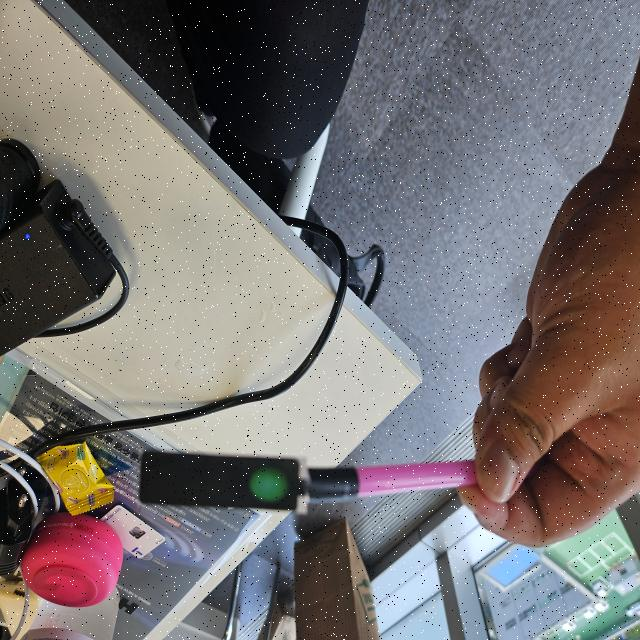traffic light: (139, 451, 310, 515)
